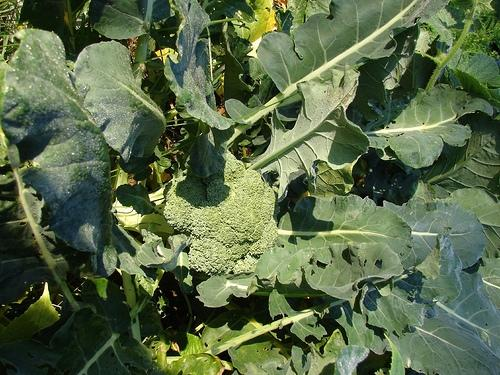broccoli: (163, 150, 280, 276)
